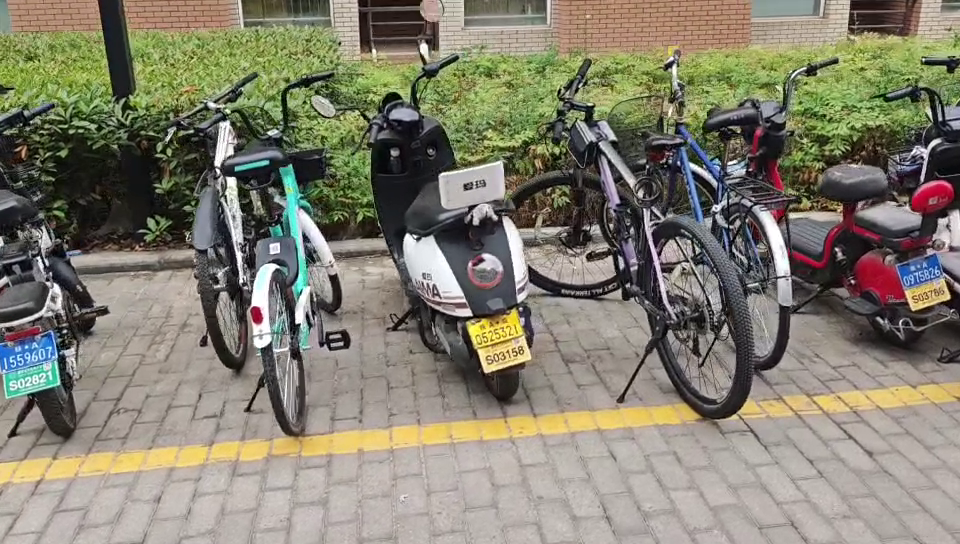others: (519, 74, 753, 447), (326, 57, 515, 402), (742, 64, 945, 356), (653, 55, 795, 374), (3, 92, 112, 458)
shared_bike_qingcong: (207, 72, 352, 423)
